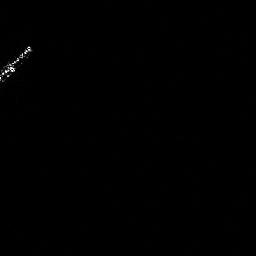ship: (1, 45, 32, 83)
